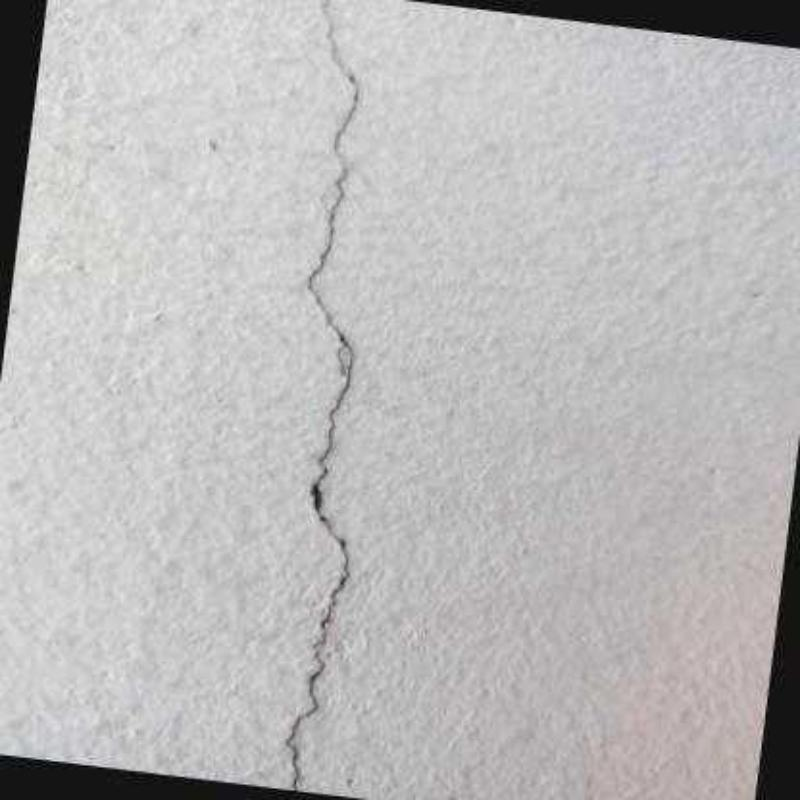pothole: (286, 2, 361, 793)
